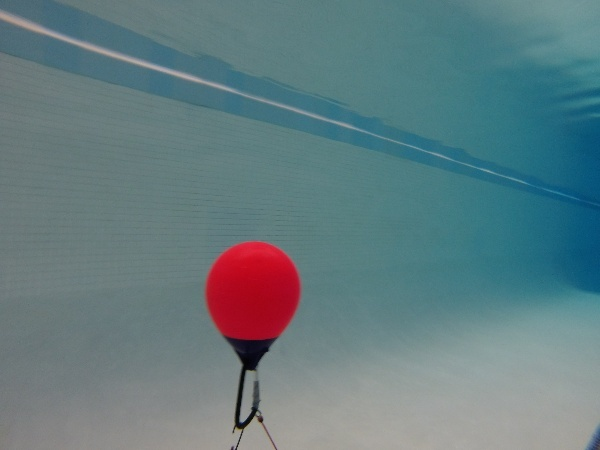buoy_red: (203, 239, 303, 373)
